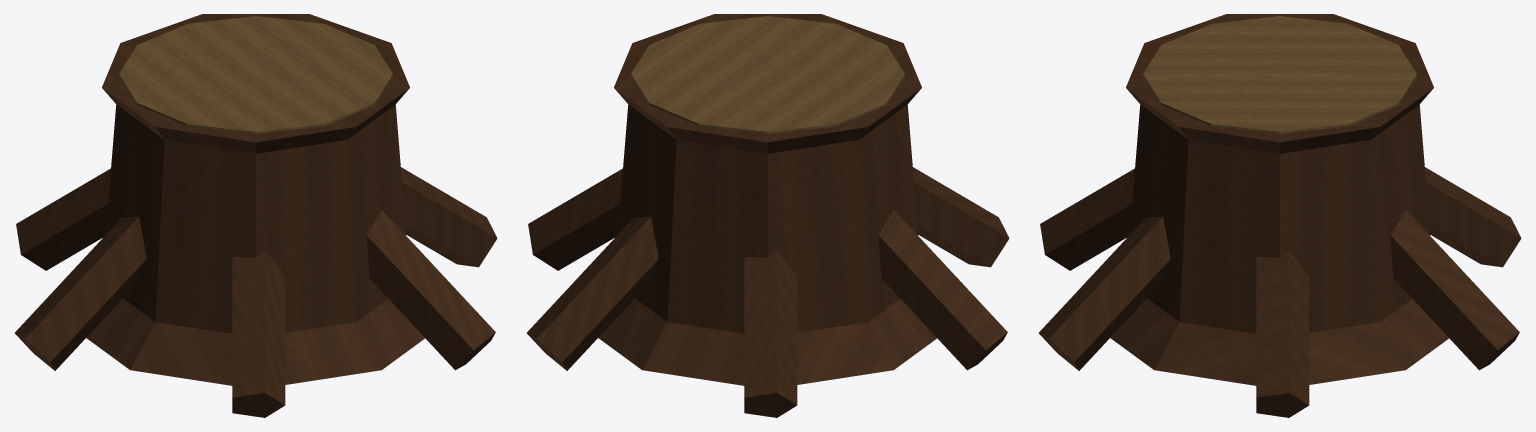
Rendered from level_woodland_stump.glb.
3 renders of one model, left to right at view 1: azimuth 30°, elevation 25°; view 2: azimuth 150°, elevation 25°; view 3: azimuth 270°, elevation 25°, orthographic.
Visible parts, largest first — view 1: level_woodland_stump; view 2: level_woodland_stump; view 3: level_woodland_stump.
Boxes of the visible parts, x1,y1,x2,y2 form: level_woodland_stump: (15,14,497,417); level_woodland_stump: (527,14,1009,417); level_woodland_stump: (1039,14,1521,417).
Bounding box in the file's own units: 1.11 × 0.5497 × 0.9872.
2 materials, 2 textured.
